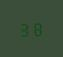eight: (31, 20, 42, 36)
three: (19, 20, 30, 37)
